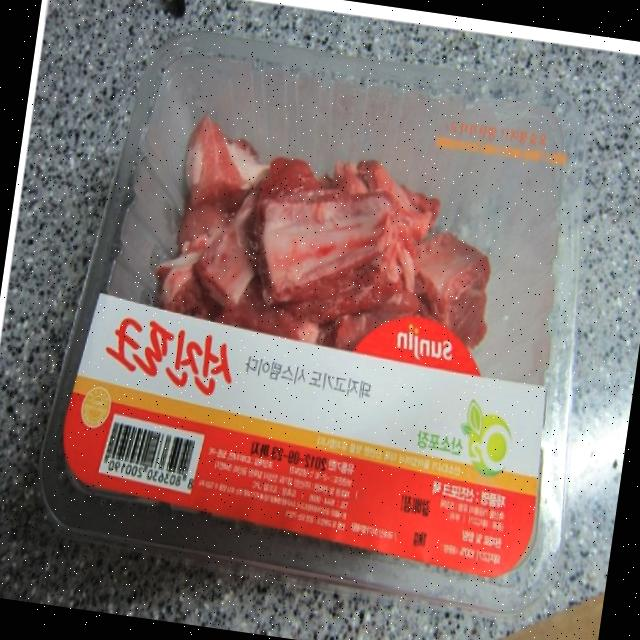meat: (72, 65, 588, 535)
